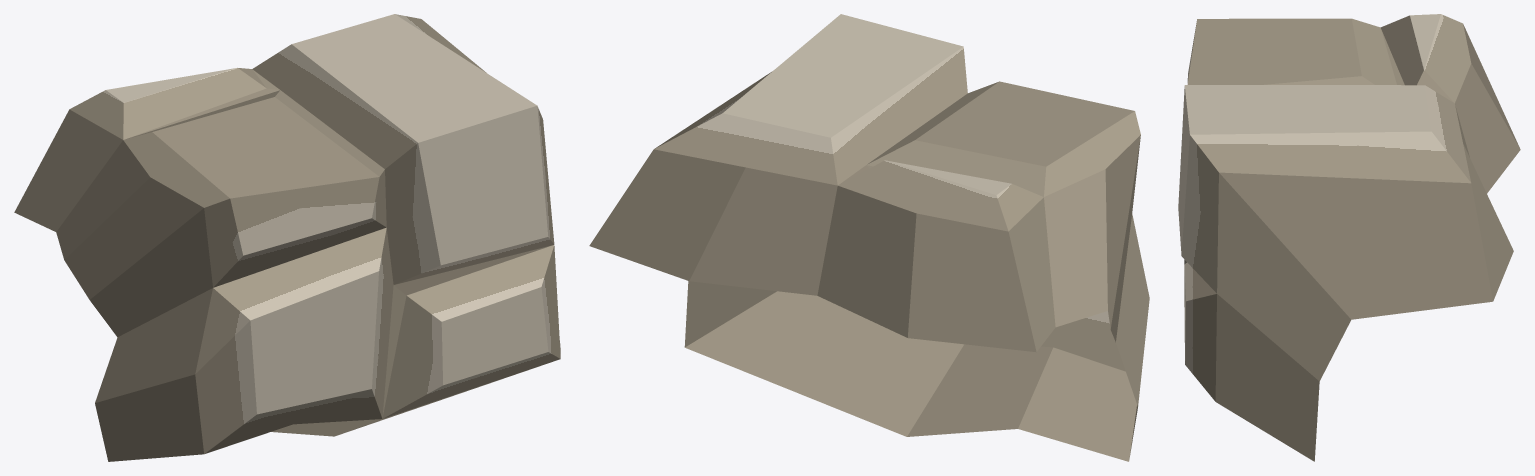
The model's file is Rock_00.fbx.
3 views of the same model, side by side, from view 1: azimuth 30°, elevation 25°; view 2: azimuth 150°, elevation 25°; view 3: azimuth 270°, elevation 25° (orthographic). The views are drawn at different scales.
Parts seen in each view (by area): view 1: Rock_00; view 2: Rock_00; view 3: Rock_00.
Part boxes in pixels (<box>): Rock_00: <box>14,14,560,461</box>; Rock_00: <box>589,14,1149,461</box>; Rock_00: <box>1178,14,1520,461</box>.
Size of the model in its own units: 86.69 by 62.16 by 60.41.
1 material, 1 textured.
